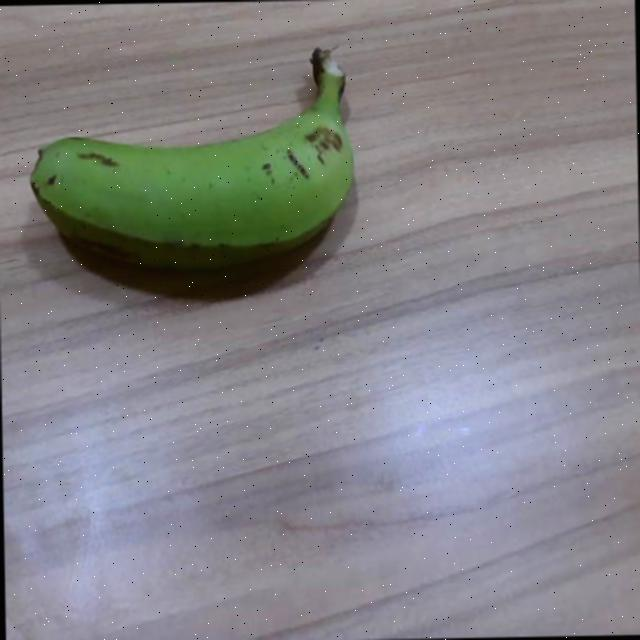Raw: (21, 24, 373, 320)
